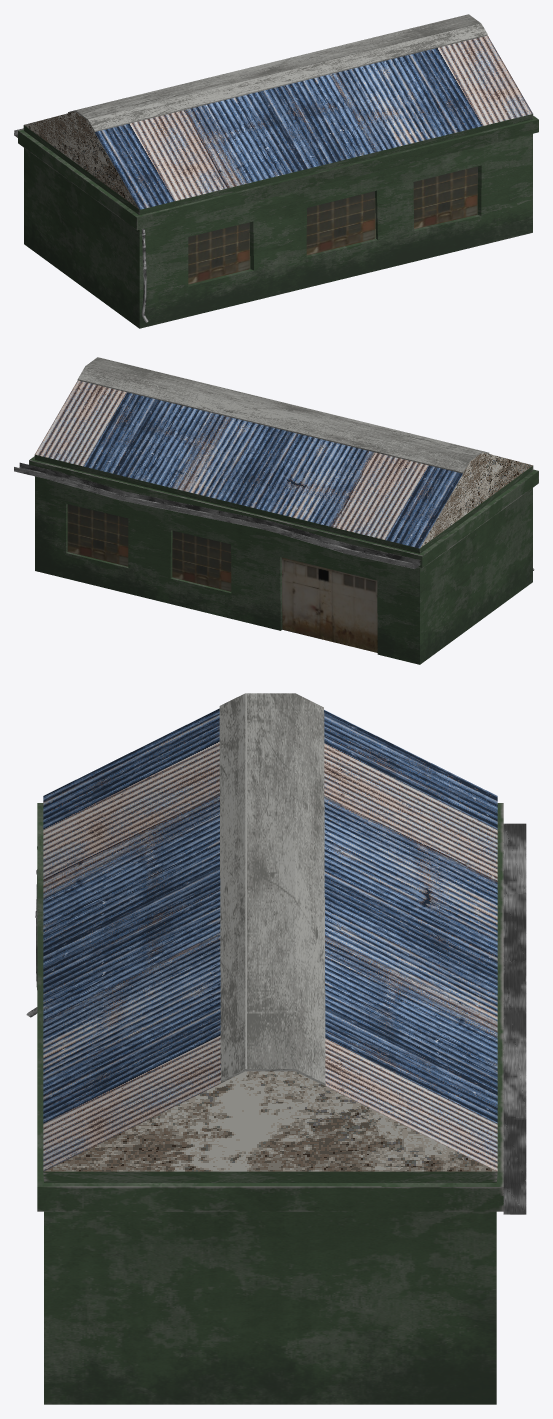
The model's file is factory.glb.
The picture shows the model from 3 angles, top to bottom: view 1: azimuth 30°, elevation 25°; view 2: azimuth 150°, elevation 25°; view 3: azimuth 270°, elevation 25°; orthographic projection. The views are drawn at different scales.
Parts seen in each view (by area): view 1: Cube; view 2: Cube, Plane; view 3: Cube, Plane.
Boxes of the visible parts, box(x1,y1,x2,y2) form: Cube: box(18, 14, 538, 328); Cube: box(29, 357, 538, 664); Plane: box(14, 462, 420, 569); Cube: box(37, 693, 503, 1404); Plane: box(503, 823, 526, 1214).
Size of the model in its own units: 26.6 by 10.6 by 14.3.
8 materials, 8 textured.
